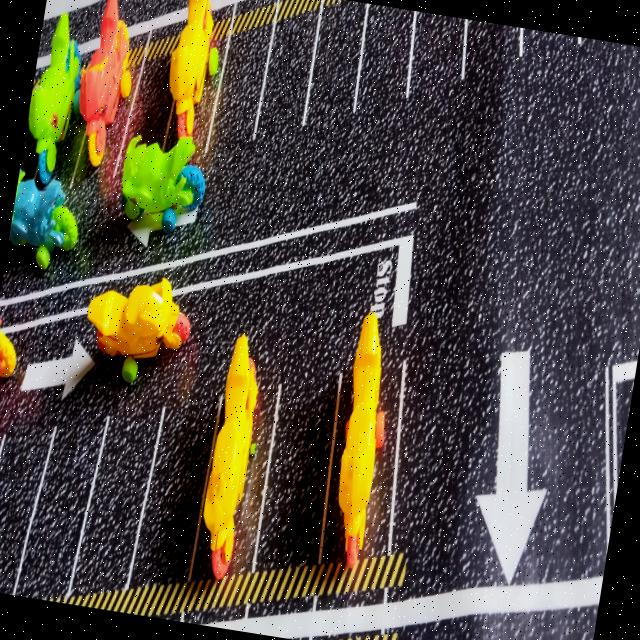bikes: (88, 278, 190, 383), (122, 137, 205, 232), (9, 174, 78, 269)
occupied: (189, 334, 275, 580), (322, 312, 401, 566), (72, 0, 138, 186), (162, 0, 230, 166), (28, 13, 86, 188)
slots: (130, 383, 223, 587), (15, 405, 109, 597), (70, 405, 163, 592), (257, 374, 338, 569), (0, 425, 56, 594), (207, 28, 271, 171), (257, 14, 316, 137), (306, 2, 364, 123), (119, 57, 173, 175), (356, 6, 412, 115), (411, 16, 464, 95)
